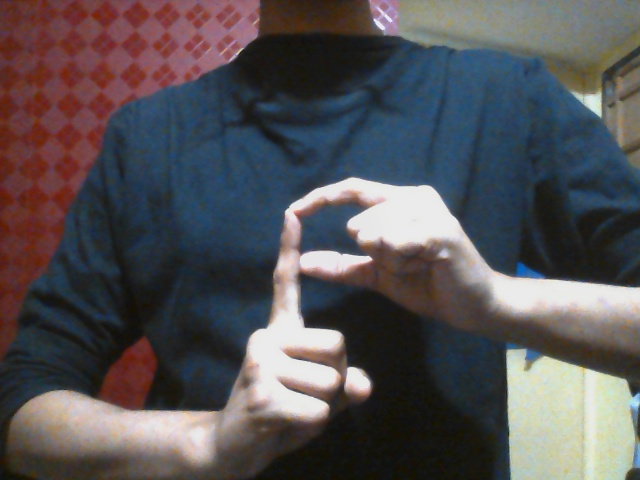P: (225, 174, 480, 460)
